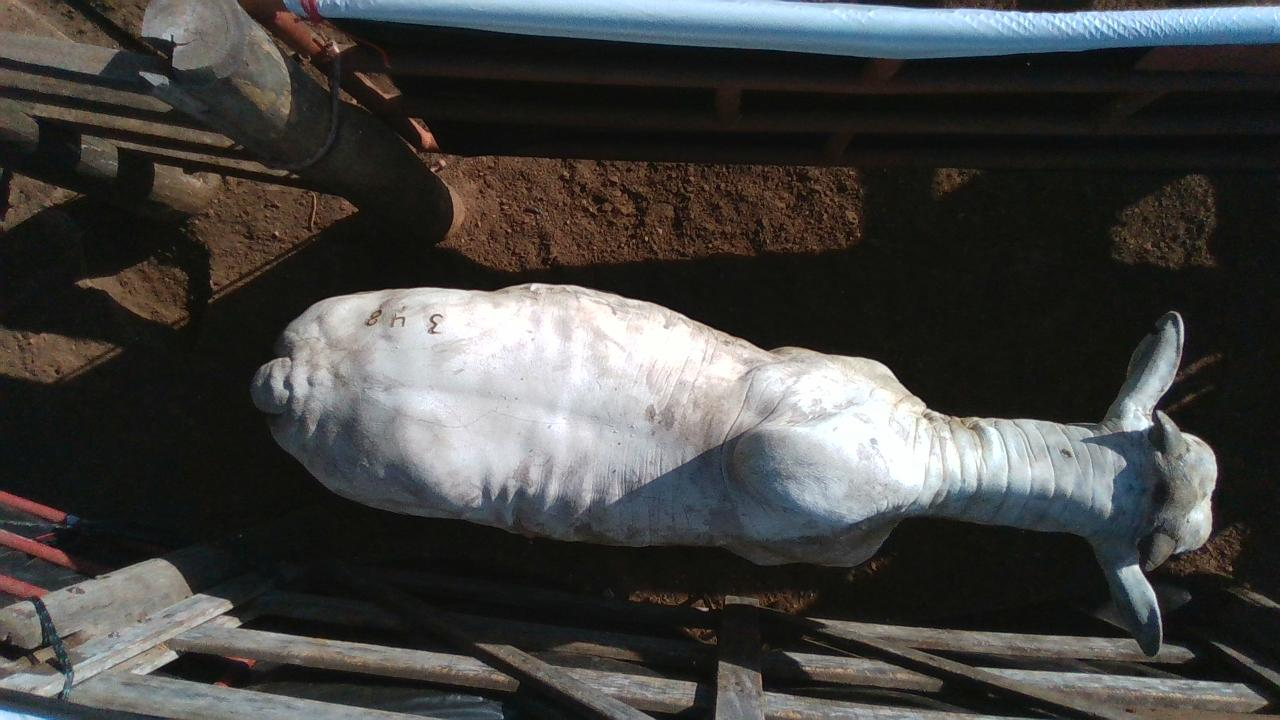cattle: (248, 280, 1219, 657)
